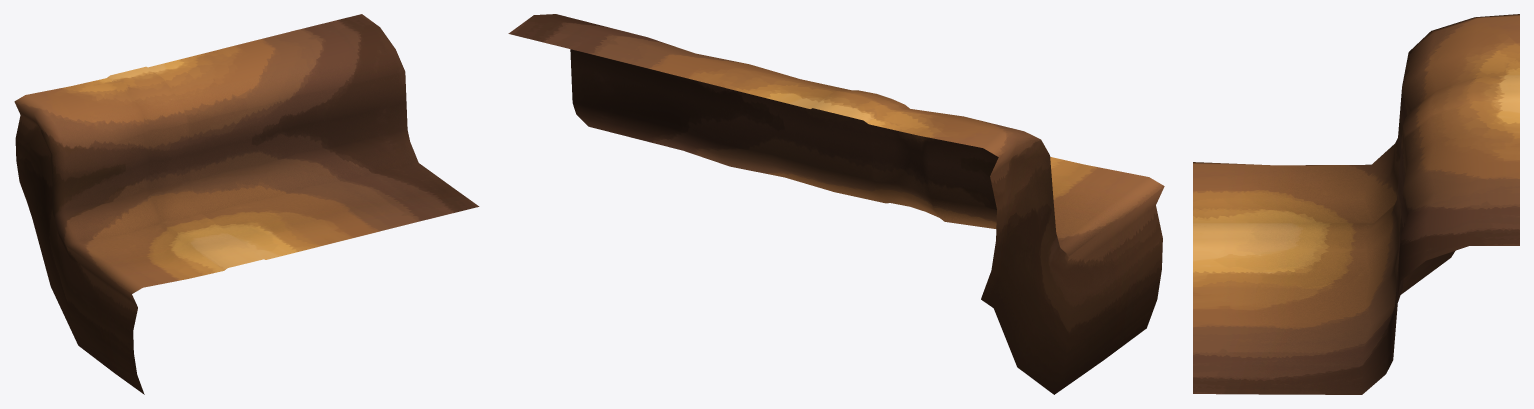
Rendered from Sol_Fin.FBX.
3 views of the same model, side by side, from view 1: azimuth 30°, elevation 25°; view 2: azimuth 150°, elevation 25°; view 3: azimuth 270°, elevation 25° (orthographic). The views are drawn at different scales.
Visible parts, largest first — view 1: Sol_Fin; view 2: Sol_Fin; view 3: Sol_Fin.
Boxes of the visible parts, x1,y1,x2,y2 form: Sol_Fin: (14,14,479,394); Sol_Fin: (508,14,1164,394); Sol_Fin: (1193,14,1519,394).
Bounding box in the file's own units: 34.25 × 20.15 × 20.
